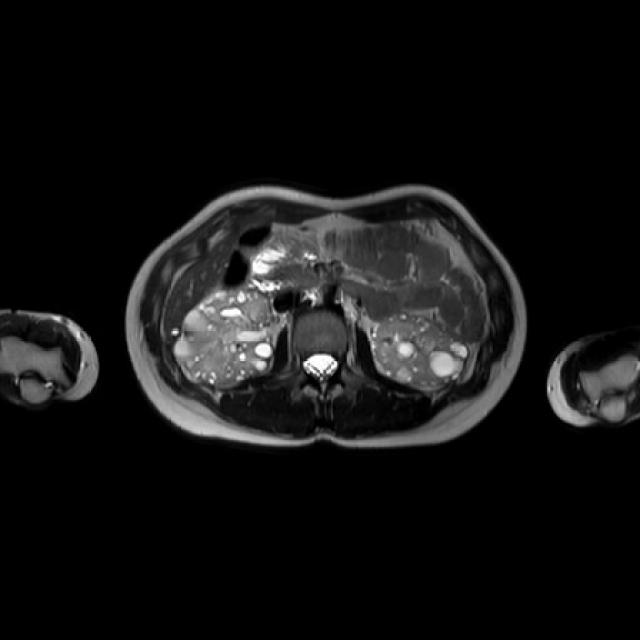sag: (176, 290, 276, 385)
sol: (379, 311, 468, 389)
